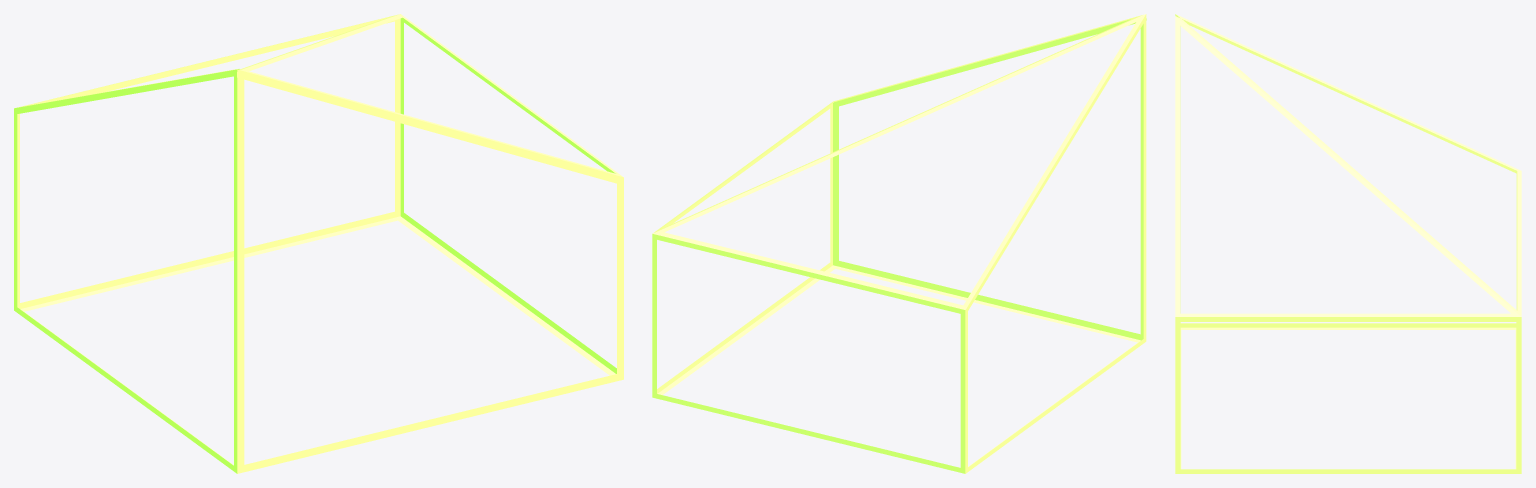
File: r2c4_highlight_green.glb
The picture shows the model from 3 angles, left to right: view 1: azimuth 30°, elevation 25°; view 2: azimuth 150°, elevation 25°; view 3: azimuth 270°, elevation 25°; orthographic projection. The views are drawn at different scales.
Parts seen in each view (by area): view 1: r2c4_highlight_green; view 2: r2c4_highlight_green; view 3: r2c4_highlight_green.
Boxes of the visible parts, x1=… form: r2c4_highlight_green: x1=14, y1=14, x2=623, y2=473; r2c4_highlight_green: x1=652, y1=14, x2=1146, y2=473; r2c4_highlight_green: x1=1175, y1=14, x2=1521, y2=473.
Bounding box in the file's own units: 2 × 2 × 2.
